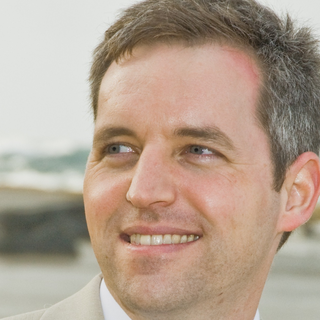eye: (176, 139, 228, 169), (96, 134, 143, 166)
